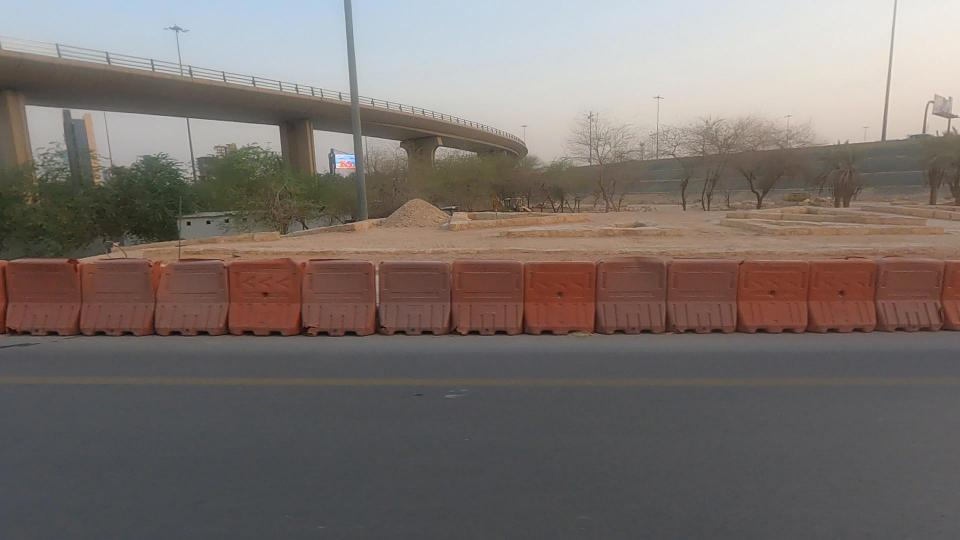CONSTRUCTION_ROAD: (298, 155, 960, 414), (0, 187, 583, 398)
SAND_ON_ROAD: (336, 167, 476, 262)
